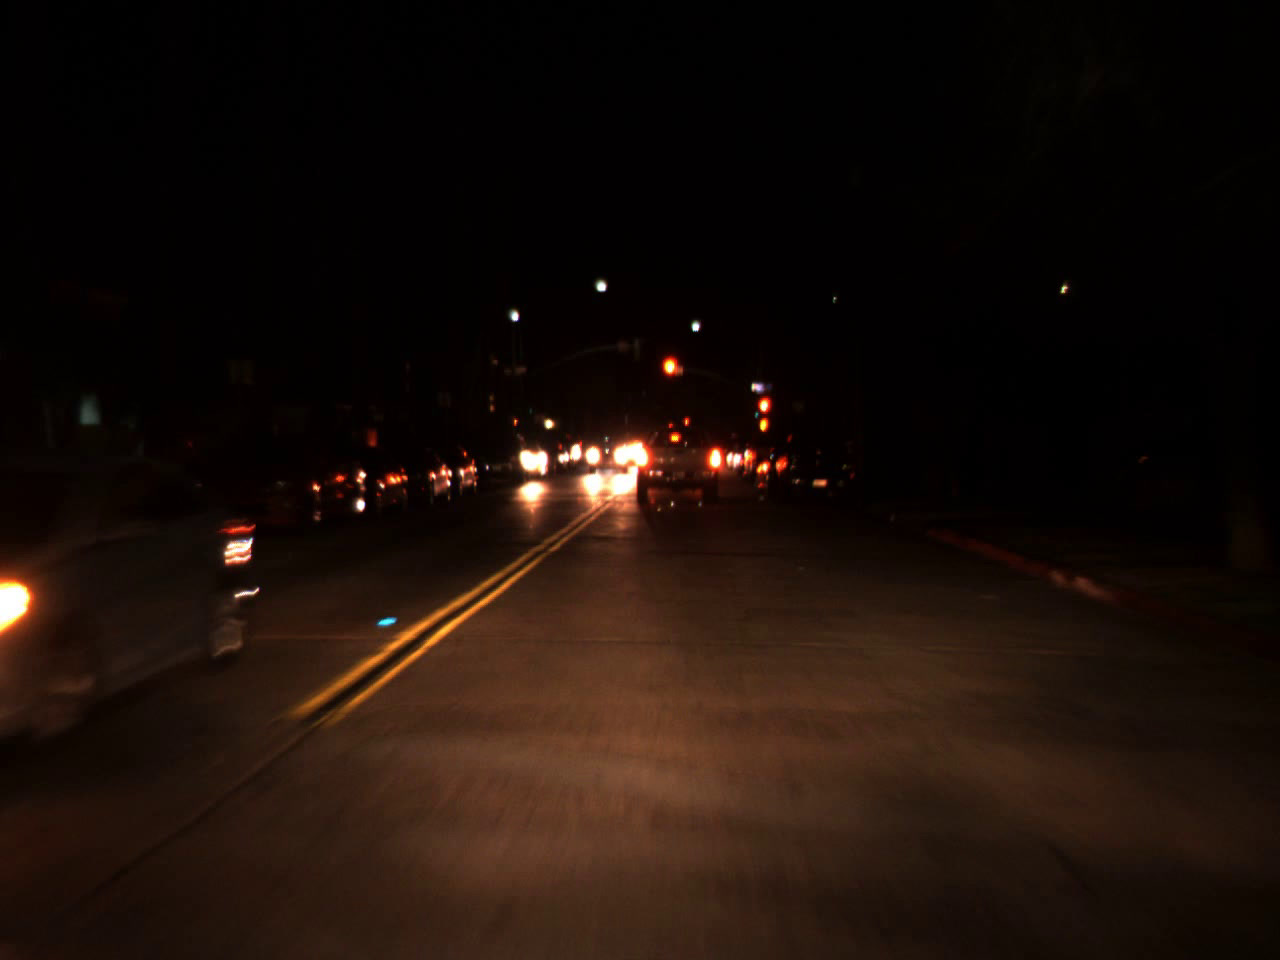stop: (660, 355, 681, 395), (755, 394, 773, 431)
